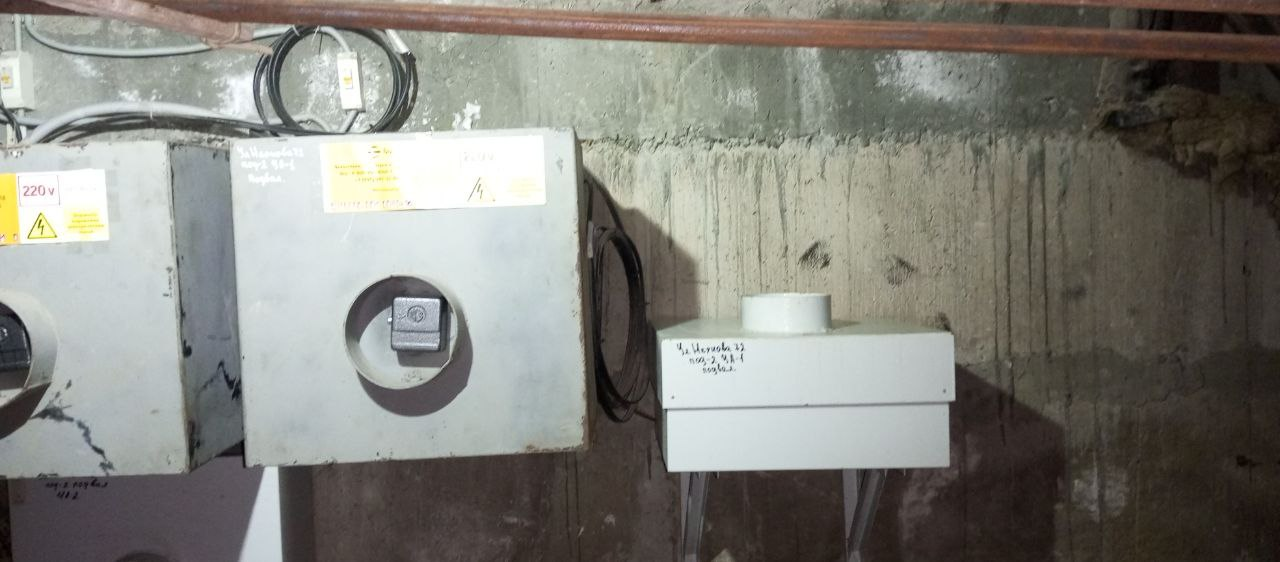shta-9: (220, 120, 594, 470), (3, 136, 233, 481)
shta-ps: (645, 284, 961, 481)
